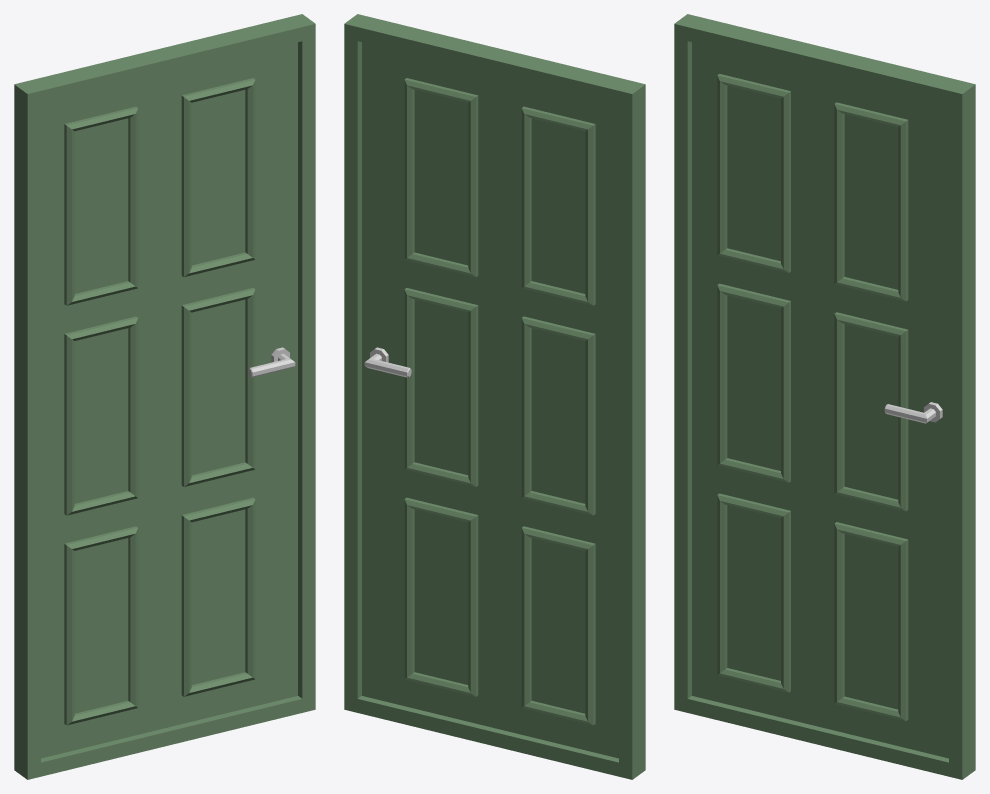
File: Mesh_Door_B12.fbx
3 renders of one model, left to right at view 1: azimuth 30°, elevation 25°; view 2: azimuth 150°, elevation 25°; view 3: azimuth 330°, elevation 25°, orthographic.
Visible parts, largest first — view 1: Mesh_Door_B12; view 2: Mesh_Door_B12; view 3: Mesh_Door_B12.
Boxes of the visible parts, x1=… form: Mesh_Door_B12: x1=14, y1=14, x2=315, y2=779; Mesh_Door_B12: x1=344, y1=14, x2=645, y2=779; Mesh_Door_B12: x1=674, y1=14, x2=975, y2=779.
Bounding box in the file's own units: 0.9 × 2.05 × 0.1524.
